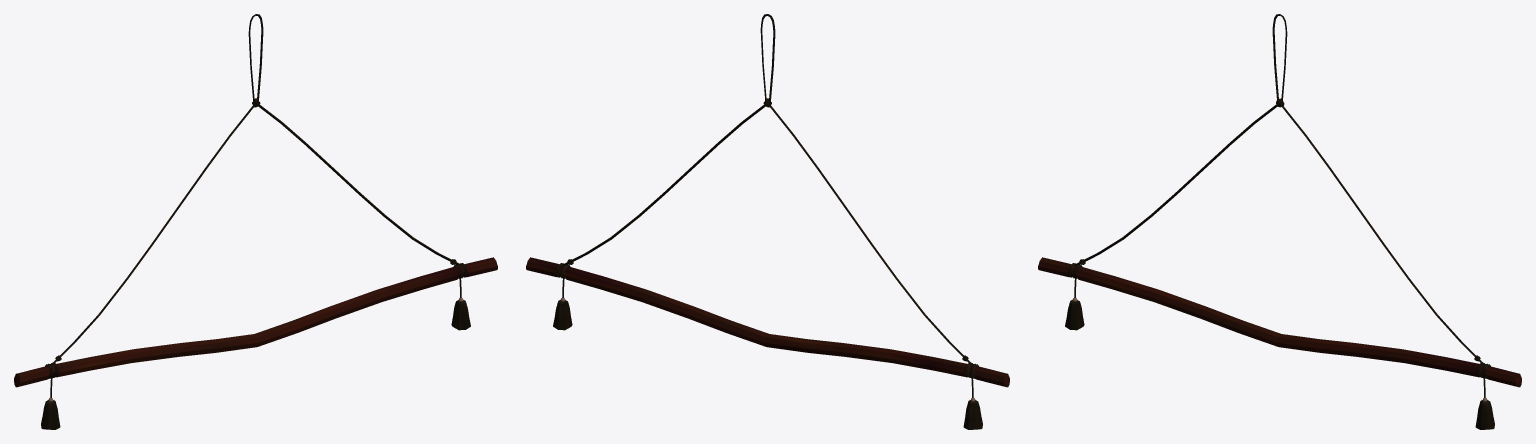
Rendered from clothes_rack_1c8de013.glb.
3 renders of one model, left to right at view 1: azimuth 30°, elevation 25°; view 2: azimuth 150°, elevation 25°; view 3: azimuth 330°, elevation 25°, orthographic.
Visible parts, largest first — view 1: SM_Clothes_Rack_M_Clothes_Rack_0; view 2: SM_Clothes_Rack_M_Clothes_Rack_0; view 3: SM_Clothes_Rack_M_Clothes_Rack_0.
Part boxes in pixels (x1,y1,x2,y2): SM_Clothes_Rack_M_Clothes_Rack_0: (14,14,497,429); SM_Clothes_Rack_M_Clothes_Rack_0: (526,14,1009,429); SM_Clothes_Rack_M_Clothes_Rack_0: (1038,14,1521,429).
Size of the model in its own units: 1.18 by 0.8504 by 0.0407.
